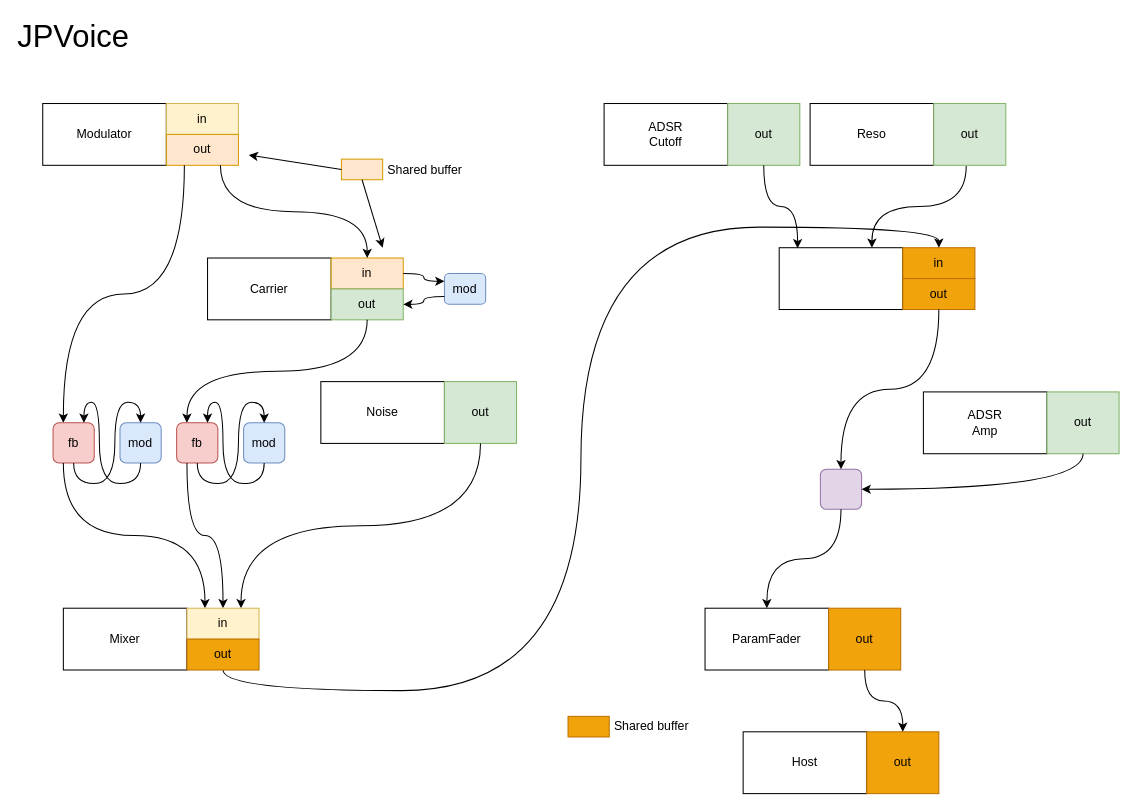
Image size: 1137x812. Some labels were removed from this diagram. The shapes that lost their labels are listed below. From the top down, each one's centre as x and y in pixels, then its label:
At (840,278): "Filter".
At (840,488): "amp".
